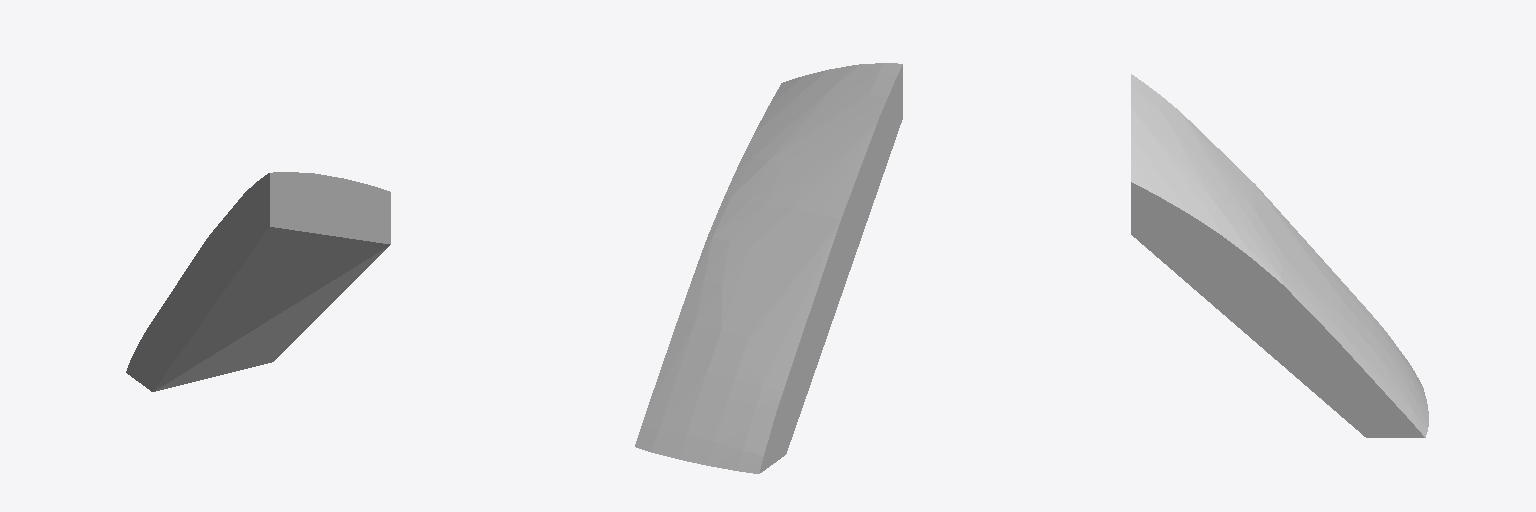
The model's file is phantom-elastrat_collision_458.obj.
3 views of the same model, side by side, from view 1: azimuth 30°, elevation 25°; view 2: azimuth 150°, elevation 25°; view 3: azimuth 270°, elevation 25° (orthographic).
Bounding box in the file's own units: 0.0051 × 0.0121 × 0.0107.